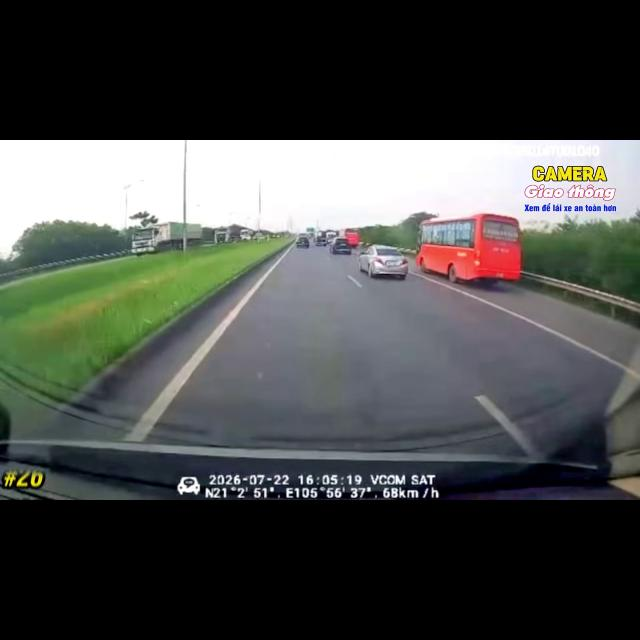bus: (416, 214, 521, 284), (339, 228, 359, 247)
car: (358, 245, 408, 279), (0, 403, 11, 461), (177, 477, 200, 495), (330, 237, 352, 255), (296, 236, 310, 248), (315, 237, 326, 245)
truck: (217, 225, 240, 245), (186, 224, 202, 245), (326, 230, 338, 244), (240, 229, 251, 240)
